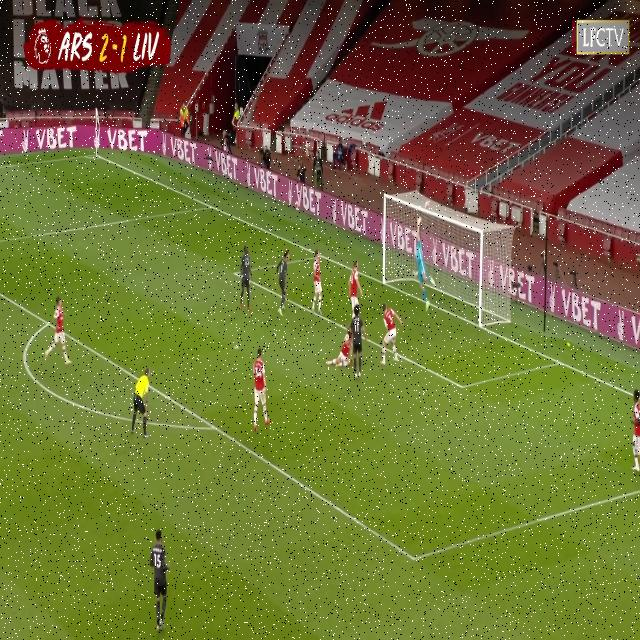Ball: (425, 196, 430, 214)
GoalKeeper: (410, 218, 435, 322)
TEAM 1: (49, 298, 74, 367), (254, 348, 270, 428), (382, 305, 402, 367), (627, 387, 640, 475), (310, 242, 325, 318), (323, 331, 350, 370), (345, 258, 360, 318)
TEAM 2: (150, 530, 172, 634), (237, 244, 254, 312), (276, 250, 291, 316)
